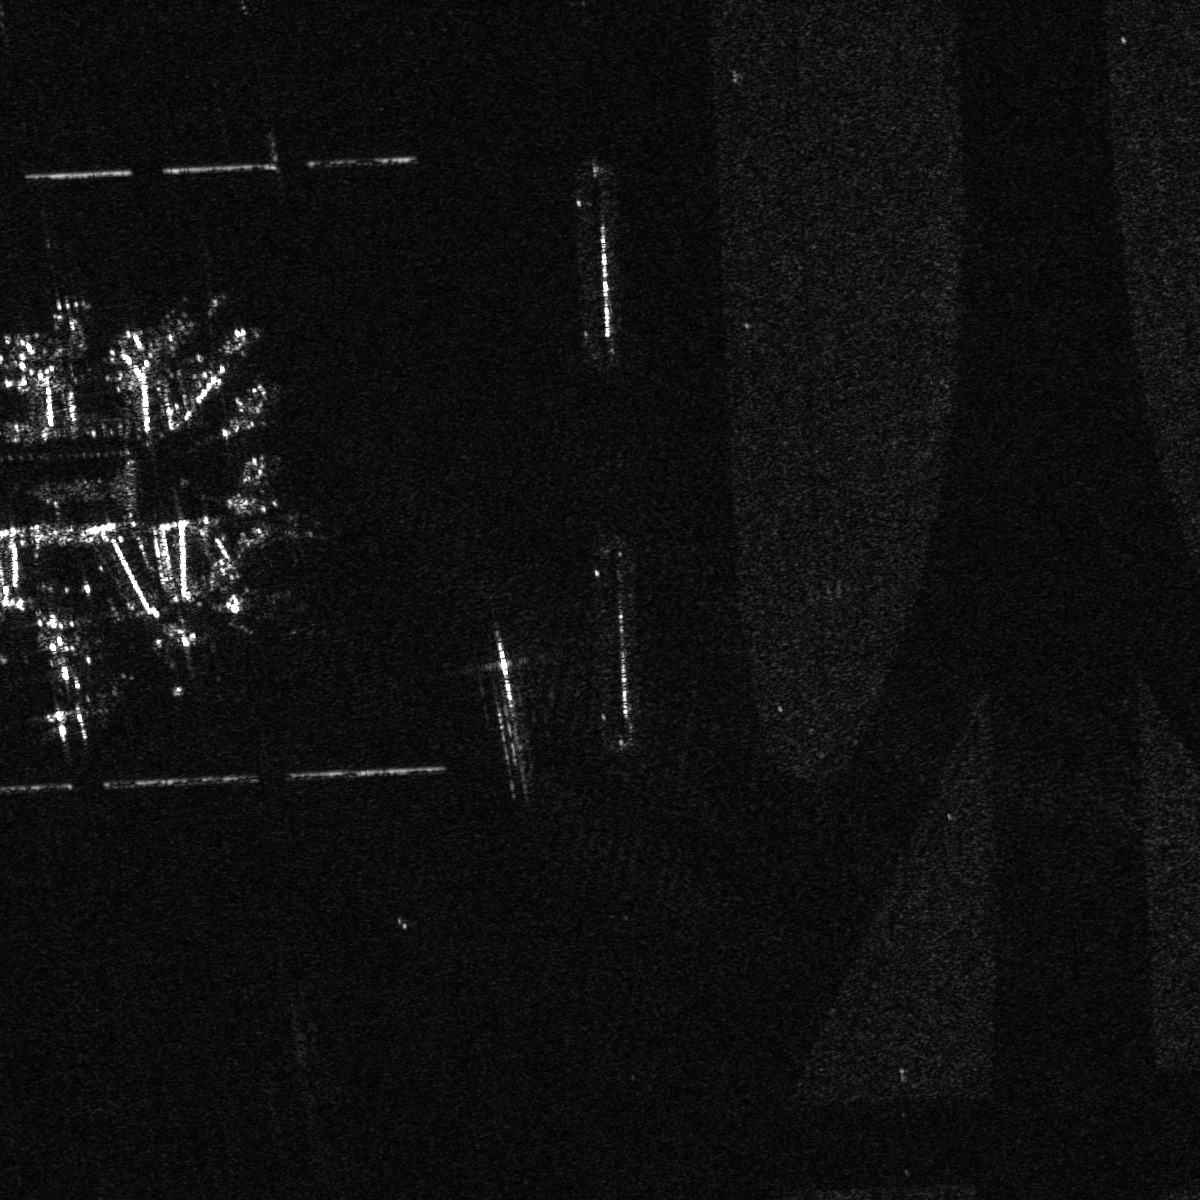A320/321: (41, 293, 97, 345)
Boeing737: (192, 586, 280, 635)
